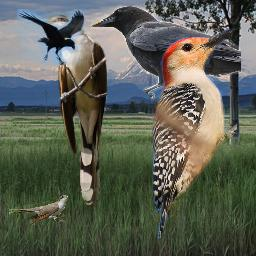Crow: (91, 6, 241, 107), (17, 9, 85, 65)
Cuckoo: (37, 15, 109, 207), (9, 195, 68, 225)
Woodpecker: (152, 26, 237, 239)
